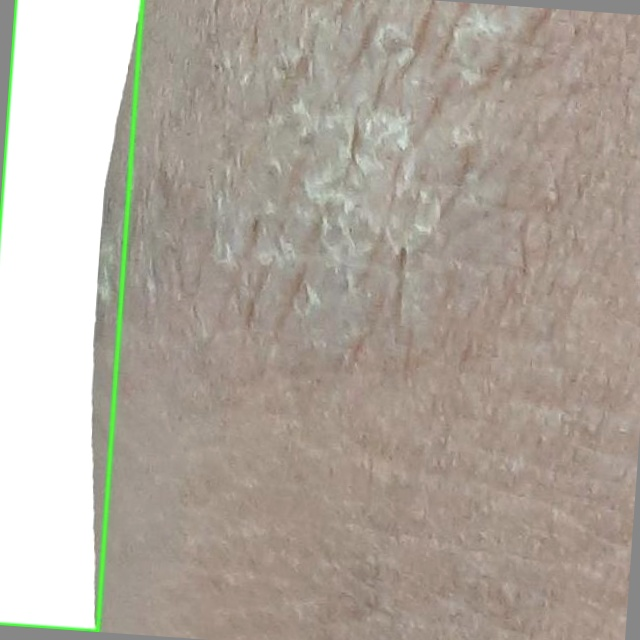Tinea Corporis: (0, 0, 142, 631)
